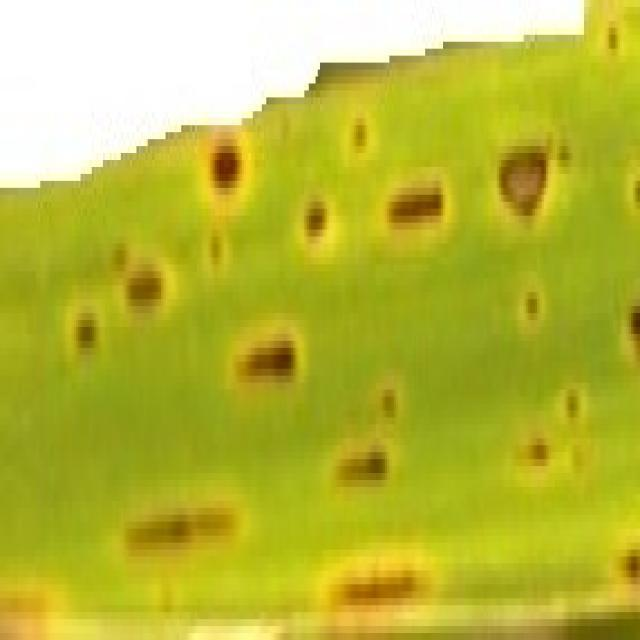brownspots: (112, 501, 251, 564), (336, 542, 434, 620), (490, 132, 551, 223), (232, 320, 302, 390), (331, 424, 396, 494), (384, 167, 448, 230), (2, 570, 58, 640), (208, 118, 244, 202), (562, 376, 588, 480), (516, 410, 548, 480), (65, 299, 103, 348), (132, 264, 161, 320), (344, 104, 372, 160), (374, 376, 403, 418), (298, 202, 332, 236), (519, 271, 539, 327), (620, 536, 640, 592), (626, 285, 640, 354), (604, 14, 620, 56), (110, 236, 128, 272)
